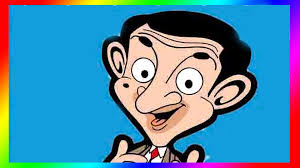mrbean: (91, 10, 264, 162)
